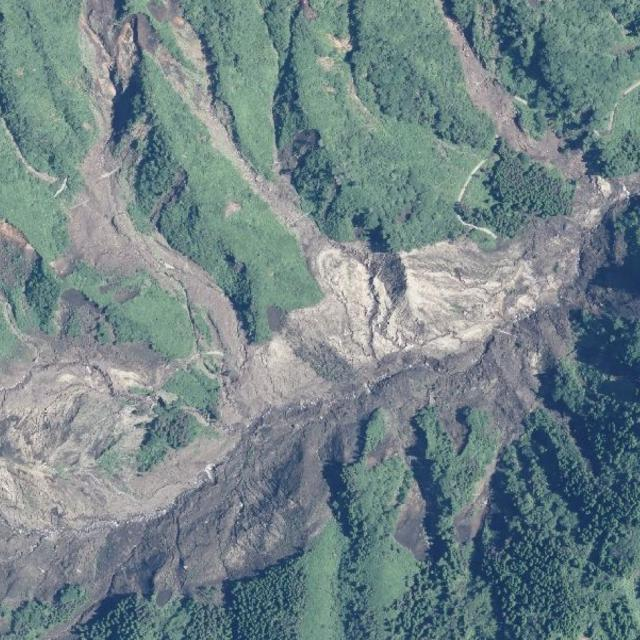landslide: (0, 2, 640, 553)
